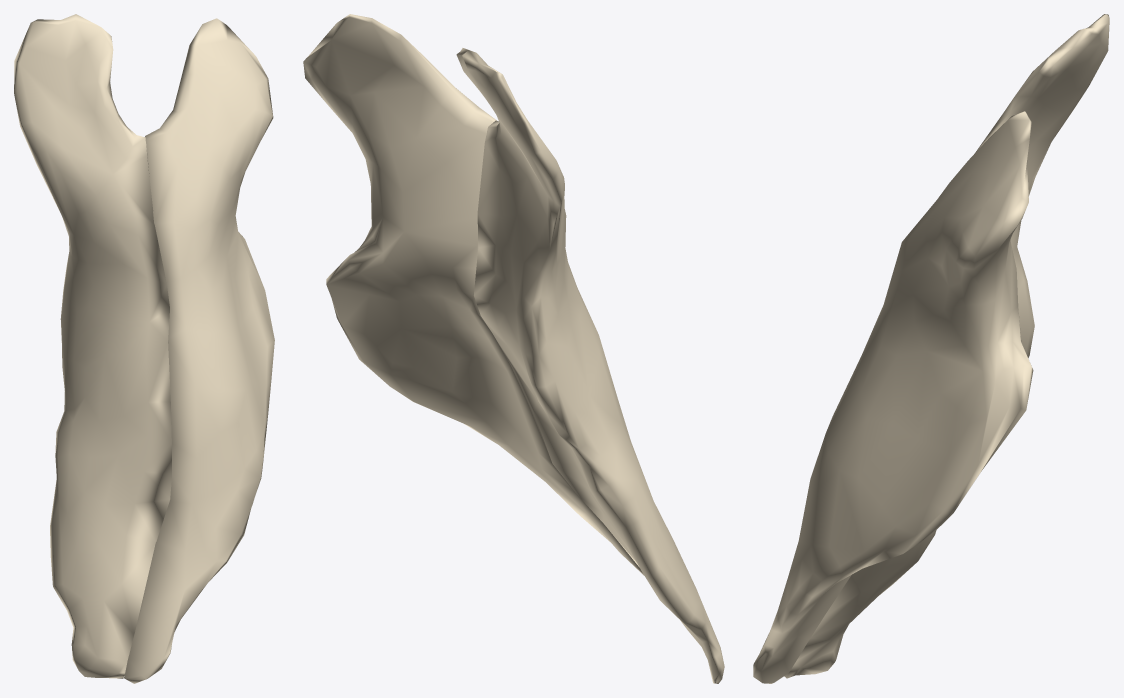
The model's file is vh_m_thymus-40.glb.
The picture shows the model from 3 angles, left to right: view 1: azimuth 30°, elevation 25°; view 2: azimuth 150°, elevation 25°; view 3: azimuth 270°, elevation 25°; orthographic projection. The views are drawn at different scales.
Visible parts, largest first — view 1: VH_M_thymus_lobe_L, VH_M_thymus_lobe_R; view 2: VH_M_thymus_lobe_R, VH_M_thymus_lobe_L; view 3: VH_M_thymus_lobe_R, VH_M_thymus_lobe_L.
Boxes of the visible parts, bbox=[...] form: VH_M_thymus_lobe_L: bbox=[14, 14, 171, 678]; VH_M_thymus_lobe_R: bbox=[124, 18, 274, 683]; VH_M_thymus_lobe_R: bbox=[303, 14, 643, 575]; VH_M_thymus_lobe_L: bbox=[456, 48, 724, 683]; VH_M_thymus_lobe_R: bbox=[753, 111, 1033, 683]; VH_M_thymus_lobe_L: bbox=[784, 14, 1109, 678].
Size of the model in its own units: 0.037 by 0.0757 by 0.035.
